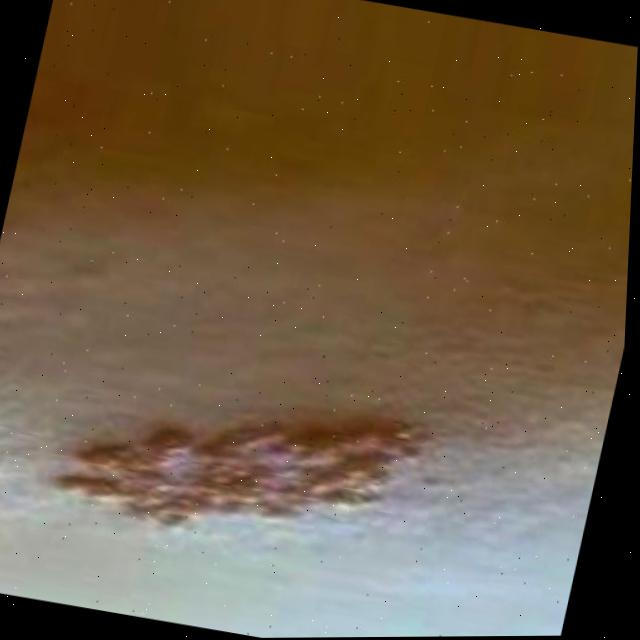Shingles: (49, 359, 439, 577)
